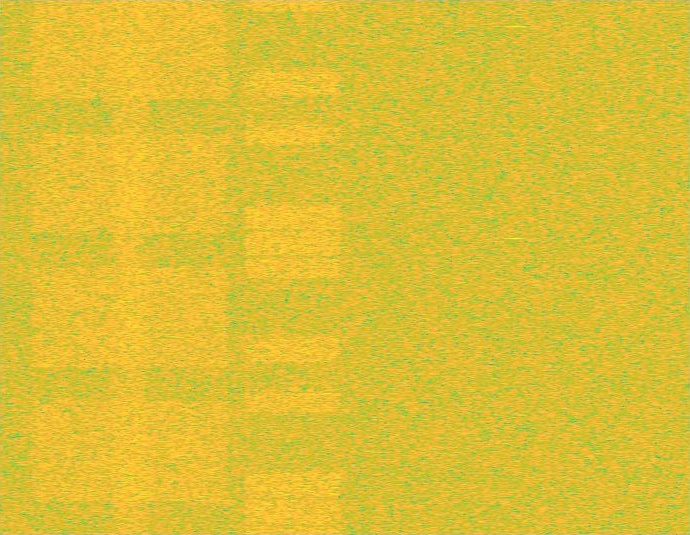5G: (26, 0, 233, 534)
DSSS: (107, 0, 153, 534)
LTE: (241, 0, 345, 534)
Radar: (508, 0, 522, 534)
